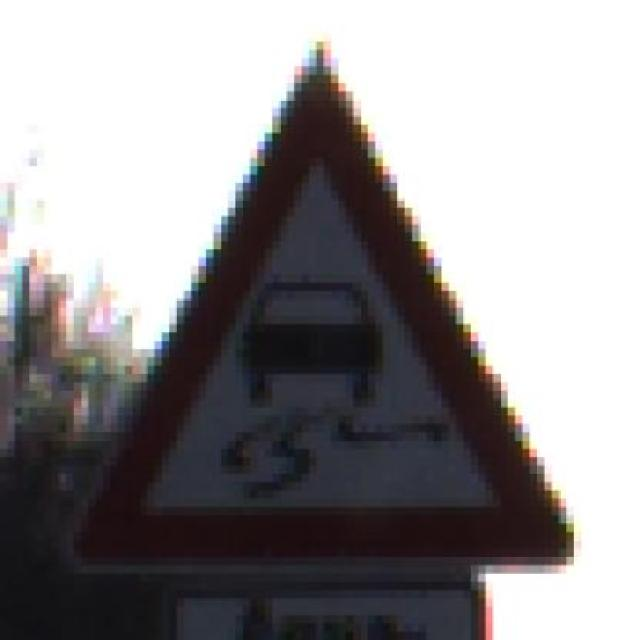Slippery Road Ahead: (44, 41, 588, 574)
